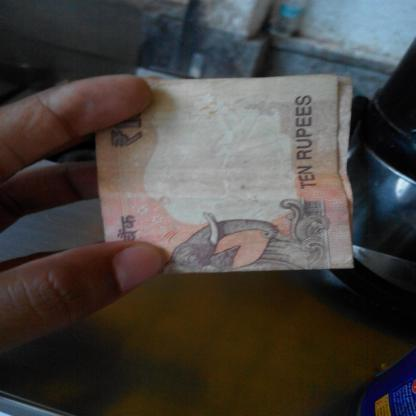Old10Back: (92, 74, 356, 276)
